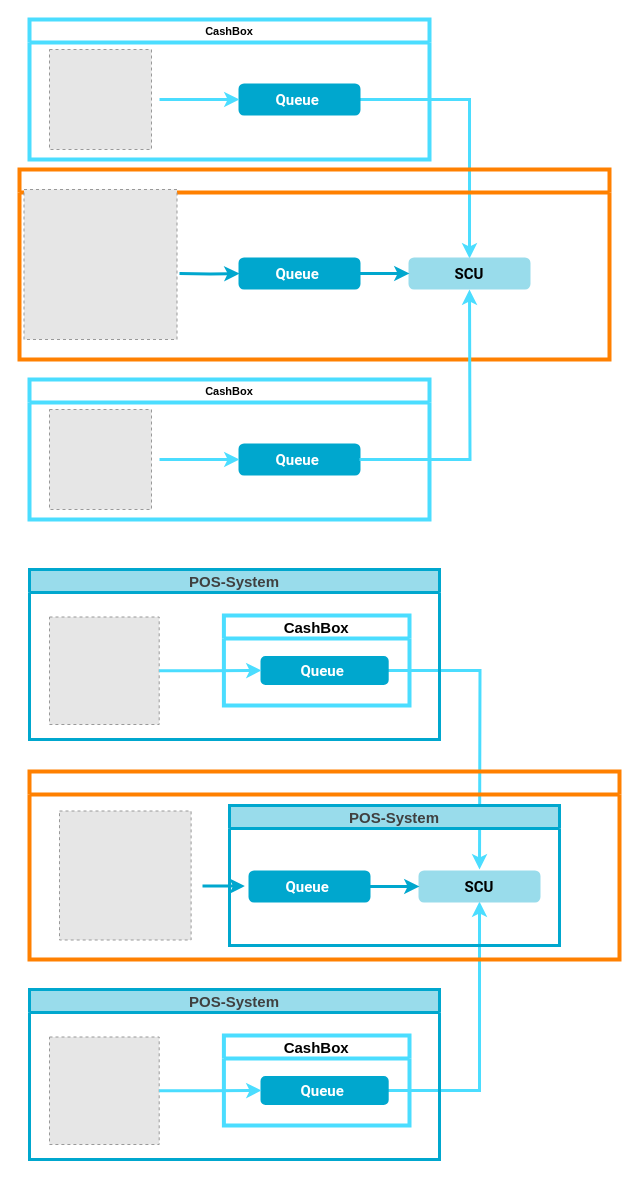
This 638x1178 diagram has some shape labels left out. Grey dashed boxes stand in for pictures. Here are the shapes that lost their labels. From the top down, the box of each, then its label:
(17, 167, 611, 361): Main CashBox
(27, 769, 621, 961): Main POS-System
